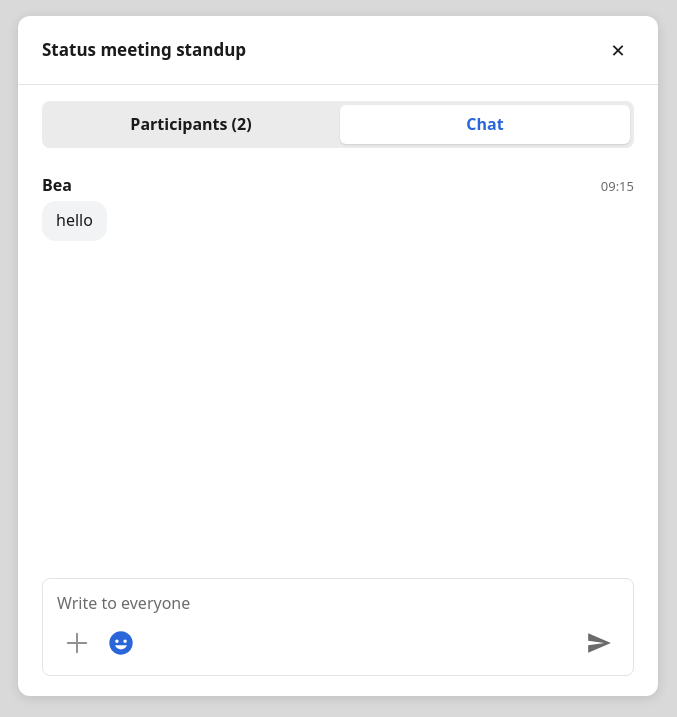
it: presence › the participant list shows full names and the chat shows first names
Expected: the text "Bea" is shown, [42,174,72,197]
Expected: the text "Bea Fisher" is not shown
Click the tab "Participants (2)" at (191,125), box [46,105,336,144]
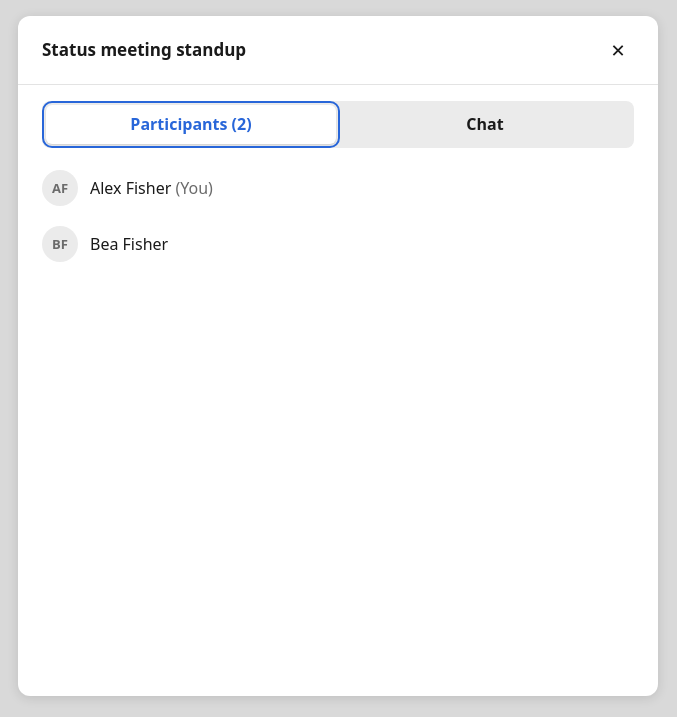
Now the text "Bea Fisher" is shown, box [90,233,168,256]
